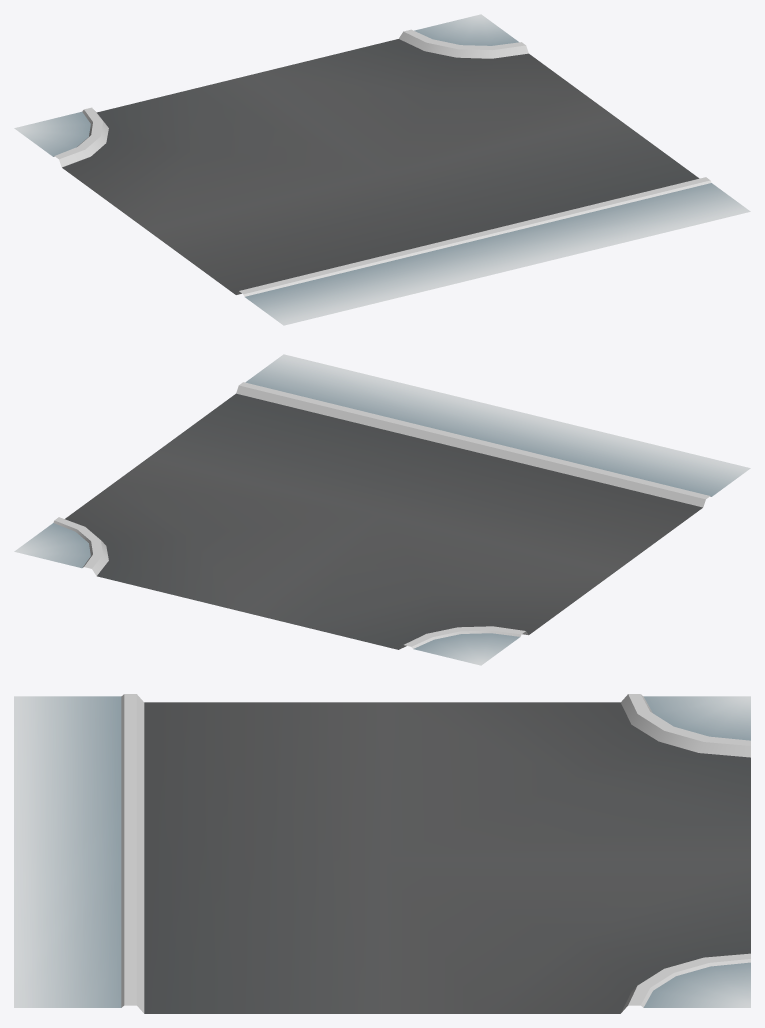
File: BRoad02.fbx
3 renders of one model, top to bottom at view 1: azimuth 30°, elevation 25°; view 2: azimuth 150°, elevation 25°; view 3: azimuth 270°, elevation 25°, orthographic. The views are drawn at different scales.
Parts seen in each view (by area): view 1: BRoad02; view 2: BRoad02; view 3: BRoad02.
Part boxes in pixels (x1=…): BRoad02: x1=14, y1=14, x2=750, y2=325; BRoad02: x1=14, y1=354, x2=750, y2=665; BRoad02: x1=14, y1=694, x2=750, y2=1013.
Bounding box in the file's own units: 3 × 0.0379 × 3.
